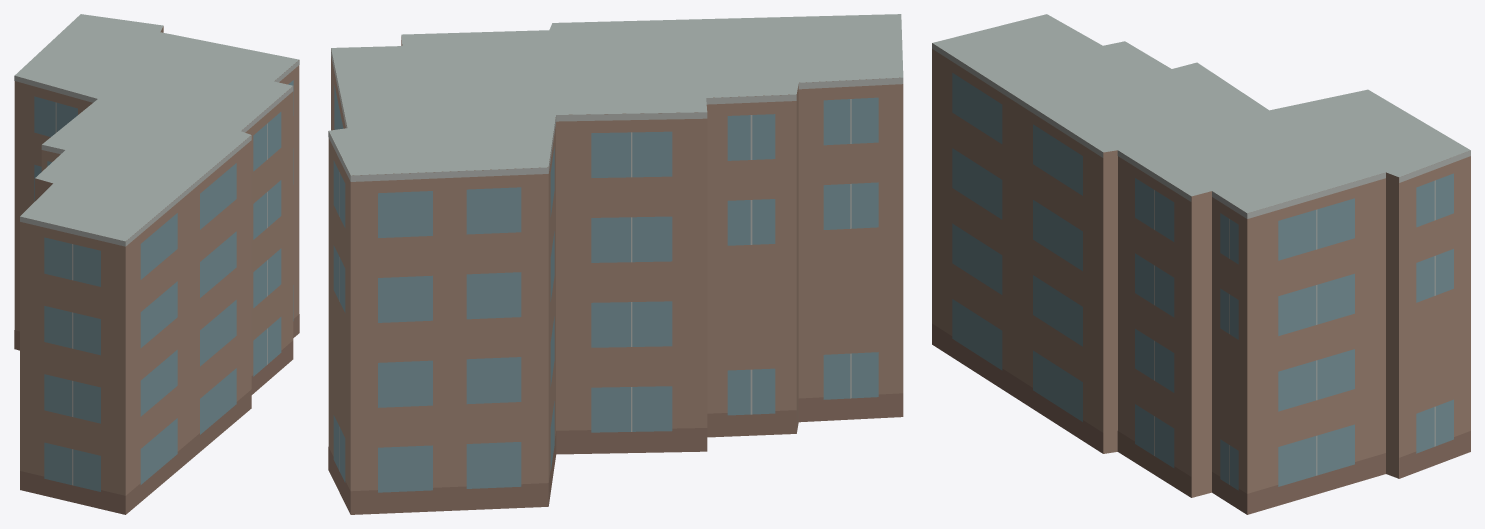
File: survey-upis-32688889.glb
3 renders of one model, left to right at view 1: azimuth 30°, elevation 25°; view 2: azimuth 150°, elevation 25°; view 3: azimuth 270°, elevation 25°, orthographic. The views are drawn at different scales.
Parts seen in each view (by area): view 1: survey-upis-32688889.tmp; view 2: survey-upis-32688889.tmp; view 3: survey-upis-32688889.tmp.
Boxes of the visible parts, <box> form: survey-upis-32688889.tmp: <box>14,14,299,514</box>; survey-upis-32688889.tmp: <box>328,14,903,514</box>; survey-upis-32688889.tmp: <box>932,14,1470,514</box>.
Bounding box in the file's own units: 18.01 × 12.7 × 20.57.
